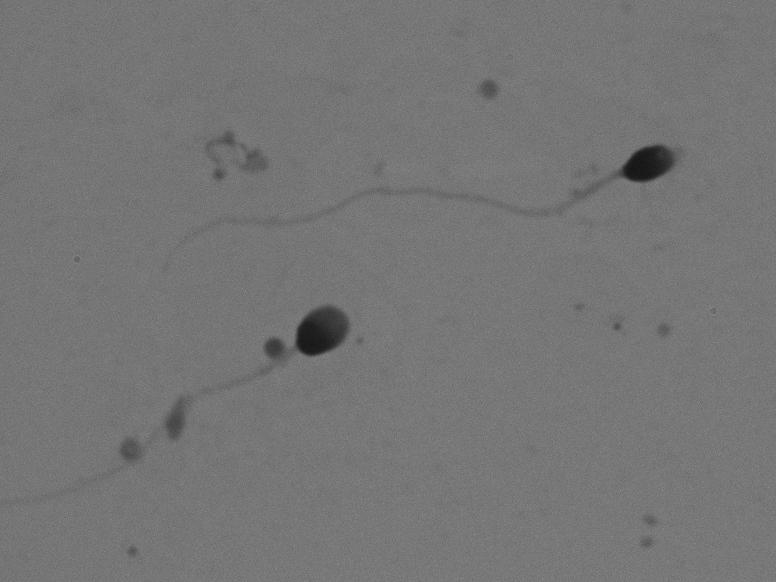Abnormal: (112, 103, 713, 286)
Normal: (6, 302, 415, 510)
